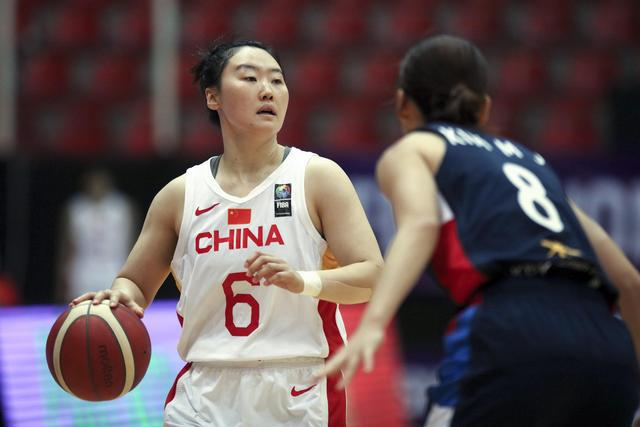ball: (47, 300, 151, 401)
